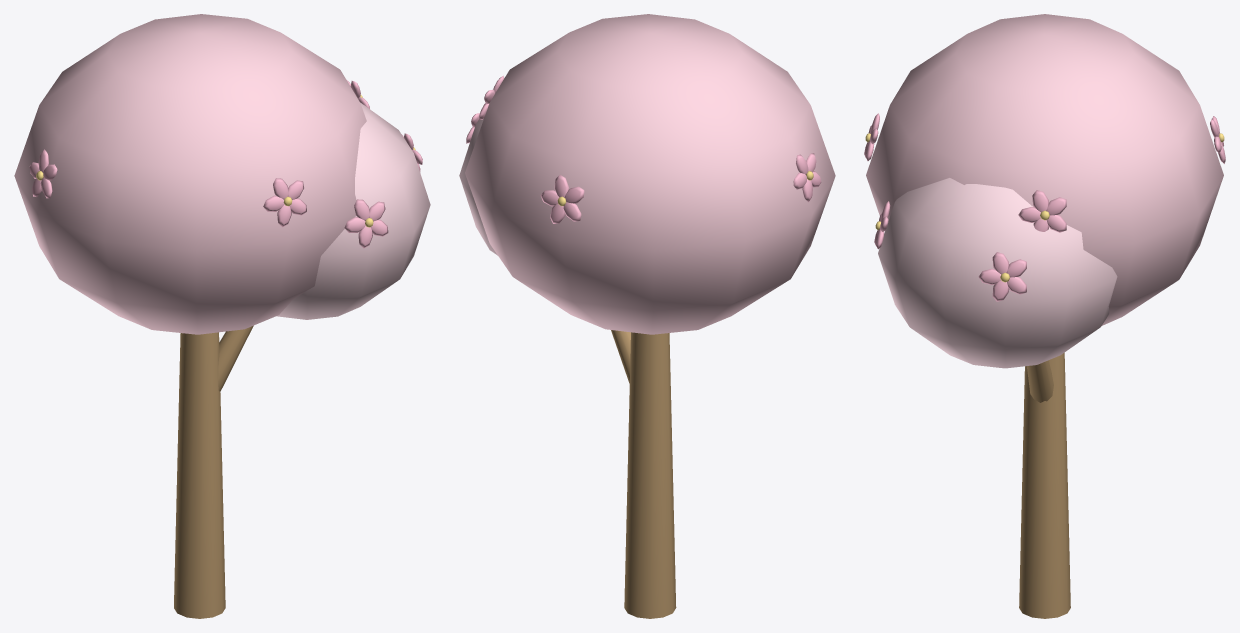
Rendered from tree_sapling_spring.glb.
3 views of the same model, side by side, from view 1: azimuth 30°, elevation 25°; view 2: azimuth 150°, elevation 25°; view 3: azimuth 270°, elevation 25° (orthographic).
Bounding box in the file's own units: 1.04 × 1.59 × 0.9092.
